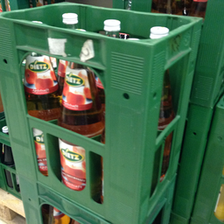juice: (61, 34, 101, 197), (23, 22, 60, 176)
